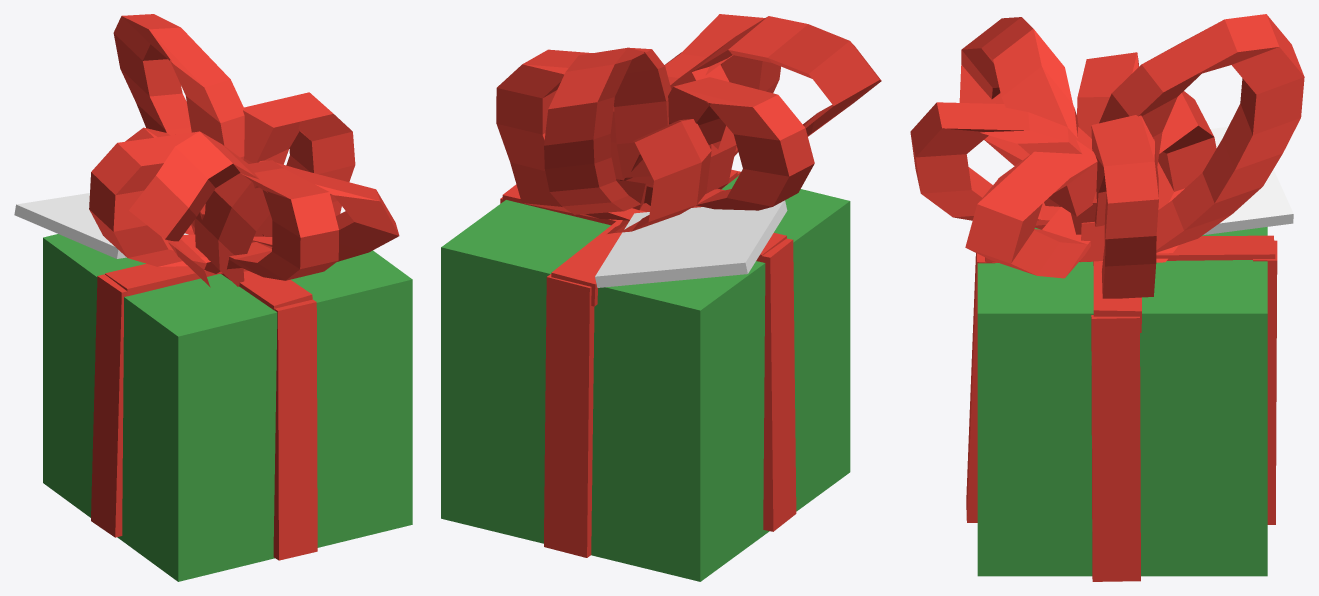
The model's file is single-gift.obj.
The picture shows the model from 3 angles, left to right: view 1: azimuth 30°, elevation 25°; view 2: azimuth 150°, elevation 25°; view 3: azimuth 270°, elevation 25°; orthographic projection. The views are drawn at different scales.
Visible parts, largest first — view 1: group1455568456, group1583166991, group1328812126, group247229525, group1936347037, group261754713, group741846027, group1736552802, group1492816832, group1583049009, group829878722, group704784828; view 2: group1455568456, group1328812126, group1865578996, group261754713, group1583049009, group1583166991, group741846027, group1736552802, group679246126, group1936347037, group704784828, group829878722; view 3: group1455568456, group1328812126, group751510744, group1492816832, group1936347037, group1736552802, group1583166991, group679246126, group261754713, group1865578996, group1583049009, group704784828 (+2 smaller).
Part boxes in pixels (box(x1,y1,x2,y2)): group1455568456: box(43, 234, 412, 581); group1583166991: box(129, 131, 269, 287); group1328812126: box(113, 14, 244, 159); group247229525: box(273, 299, 317, 560); group1936347037: box(214, 160, 338, 280); group261754713: box(89, 131, 272, 273); group741846027: box(91, 274, 127, 537); group1736552802: box(243, 92, 355, 215); group1492816832: box(252, 160, 399, 261); group1583049009: box(14, 193, 188, 258); group829878722: box(105, 263, 217, 296); group704784828: box(221, 271, 312, 309); group1455568456: box(441, 175, 850, 581); group1328812126: box(544, 47, 671, 214); group1865578996: box(544, 274, 594, 557); group261754713: box(616, 77, 814, 211); group1583049009: box(595, 200, 787, 287); group1583166991: box(670, 16, 881, 193); group741846027: box(756, 238, 796, 531); group1736552802: box(496, 49, 653, 220); group679246126: box(607, 119, 711, 233); group1936347037: box(664, 14, 780, 156); group704784828: box(551, 170, 737, 306); group829878722: box(502, 184, 786, 255); group1455568456: box(977, 227, 1267, 576); group1328812126: box(1099, 14, 1304, 252); group751510744: box(1091, 315, 1140, 581); group1492816832: box(965, 140, 1097, 278); group1936347037: box(910, 102, 1096, 234); group1736552802: box(1091, 115, 1158, 298); group1583166991: box(959, 17, 1078, 206); group679246126: box(1156, 91, 1216, 262); group261754713: box(1077, 52, 1138, 262); group1865578996: box(1253, 240, 1277, 524); group1583049009: box(1203, 126, 1293, 234); group704784828: box(985, 235, 1275, 262).
Size of the model in its own units: 0.1434 by 0.2201 by 0.1631.
